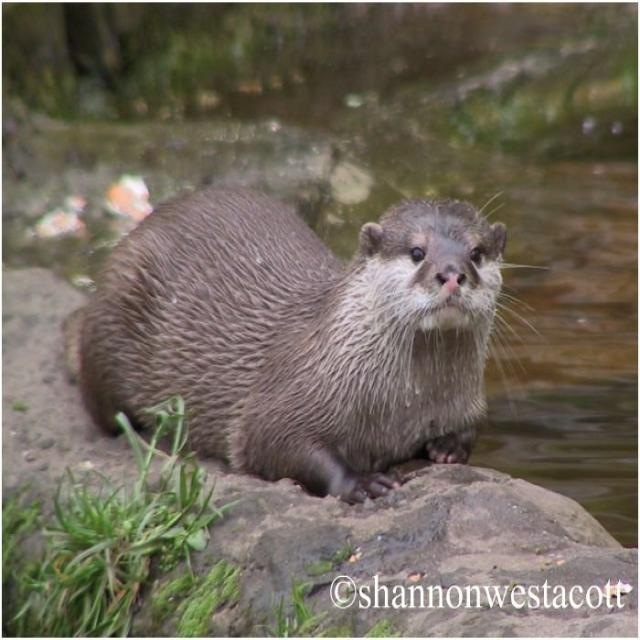otter: (82, 184, 505, 499)
